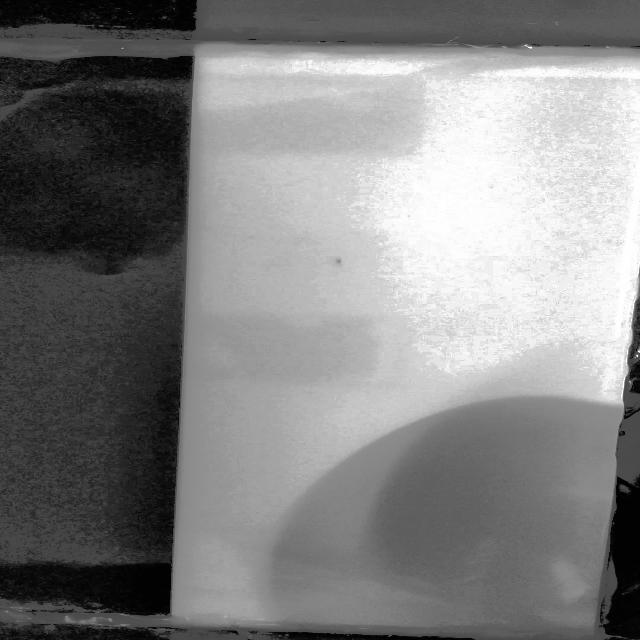shrimp: (313, 251, 354, 271)
